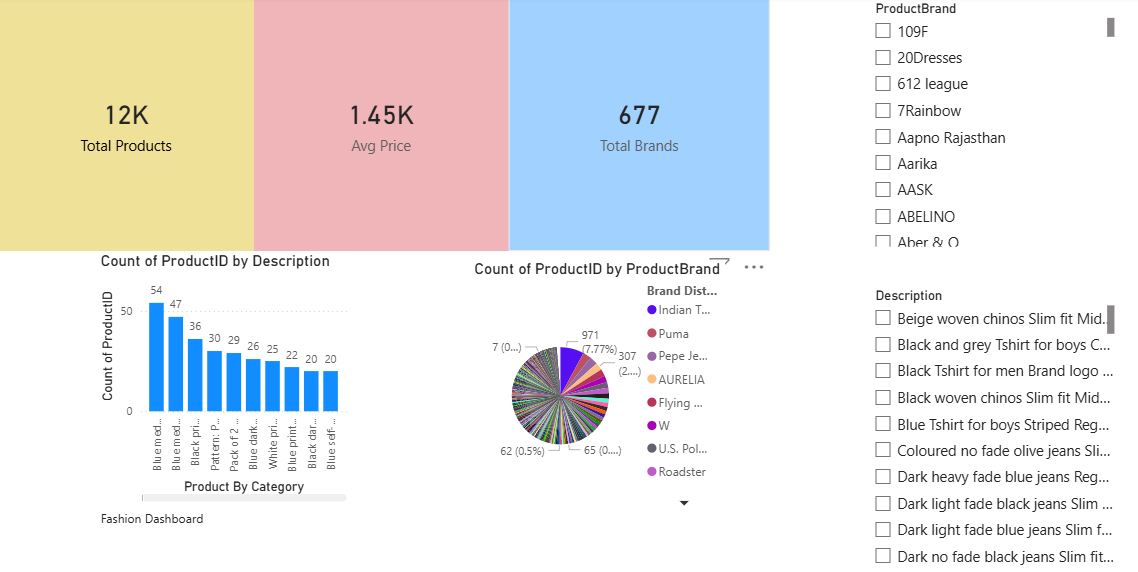

The page's visual inventory and layout, read from the dashboard file:
{"tool":"powerbi","page":{"name":"Page 1","canvas":[1280,720],"ordinal":0},"visuals":[{"type":"card","fields":{"Values":["myntra_products_catalog.Total Products"]},"box":[10,0,280,280],"z":0},{"type":"card","fields":{"Values":["myntra_products_catalog.Avg Price"]},"box":[289.5,0,279.9,279.9],"z":1000},{"type":"card","fields":{"Values":["myntra_products_catalog.Total Brands"]},"box":[569.5,0,286.8,279.9],"z":2000},{"type":"clusteredColumnChart","fields":{"Category":["myntra_products_catalog.Description"],"Y":["CountNonNull(myntra_products_catalog.ProductID)"]},"box":[116.6,279.9,279.9,279.9],"z":3000},{"type":"pieChart","fields":{"Category":["myntra_products_catalog.ProductBrand"],"Y":["CountNonNull(myntra_products_catalog.ProductID)"]},"box":[526.9,289.5,279.9,279.9],"z":4000},{"type":"slicer","fields":{"Values":["myntra_products_catalog.Description"]},"box":[959.2,315.6,279.9,330.7],"z":4001},{"type":"slicer","fields":{"Values":["myntra_products_catalog.ProductBrand"]},"box":[959.2,0,279.9,279.9],"z":4002},{"type":"textbox","box":[116.6,559.9,279.9,54.9],"z":4003}]}

Visuals, with their boxes on the page's 1280x720 design canvas (x1, y1, x2, y2). These are canvas units, not pixel positions in the 1138x572 screenshot, which may show the page scaled, cropped or inside an application window:
card - myntra_products_catalog.Total Products: <region>10, 0, 290, 280</region>
card - myntra_products_catalog.Avg Price: <region>290, 0, 569, 280</region>
card - myntra_products_catalog.Total Brands: <region>570, 0, 856, 280</region>
clusteredColumnChart - myntra_products_catalog.Description x CountNonNull(myntra_products_catalog.ProductID): <region>117, 280, 396, 560</region>
pieChart - myntra_products_catalog.ProductBrand x CountNonNull(myntra_products_catalog.ProductID): <region>527, 290, 807, 569</region>
slicer - myntra_products_catalog.Description: <region>959, 316, 1239, 646</region>
slicer - myntra_products_catalog.ProductBrand: <region>959, 0, 1239, 280</region>
textbox: <region>117, 560, 396, 615</region>
